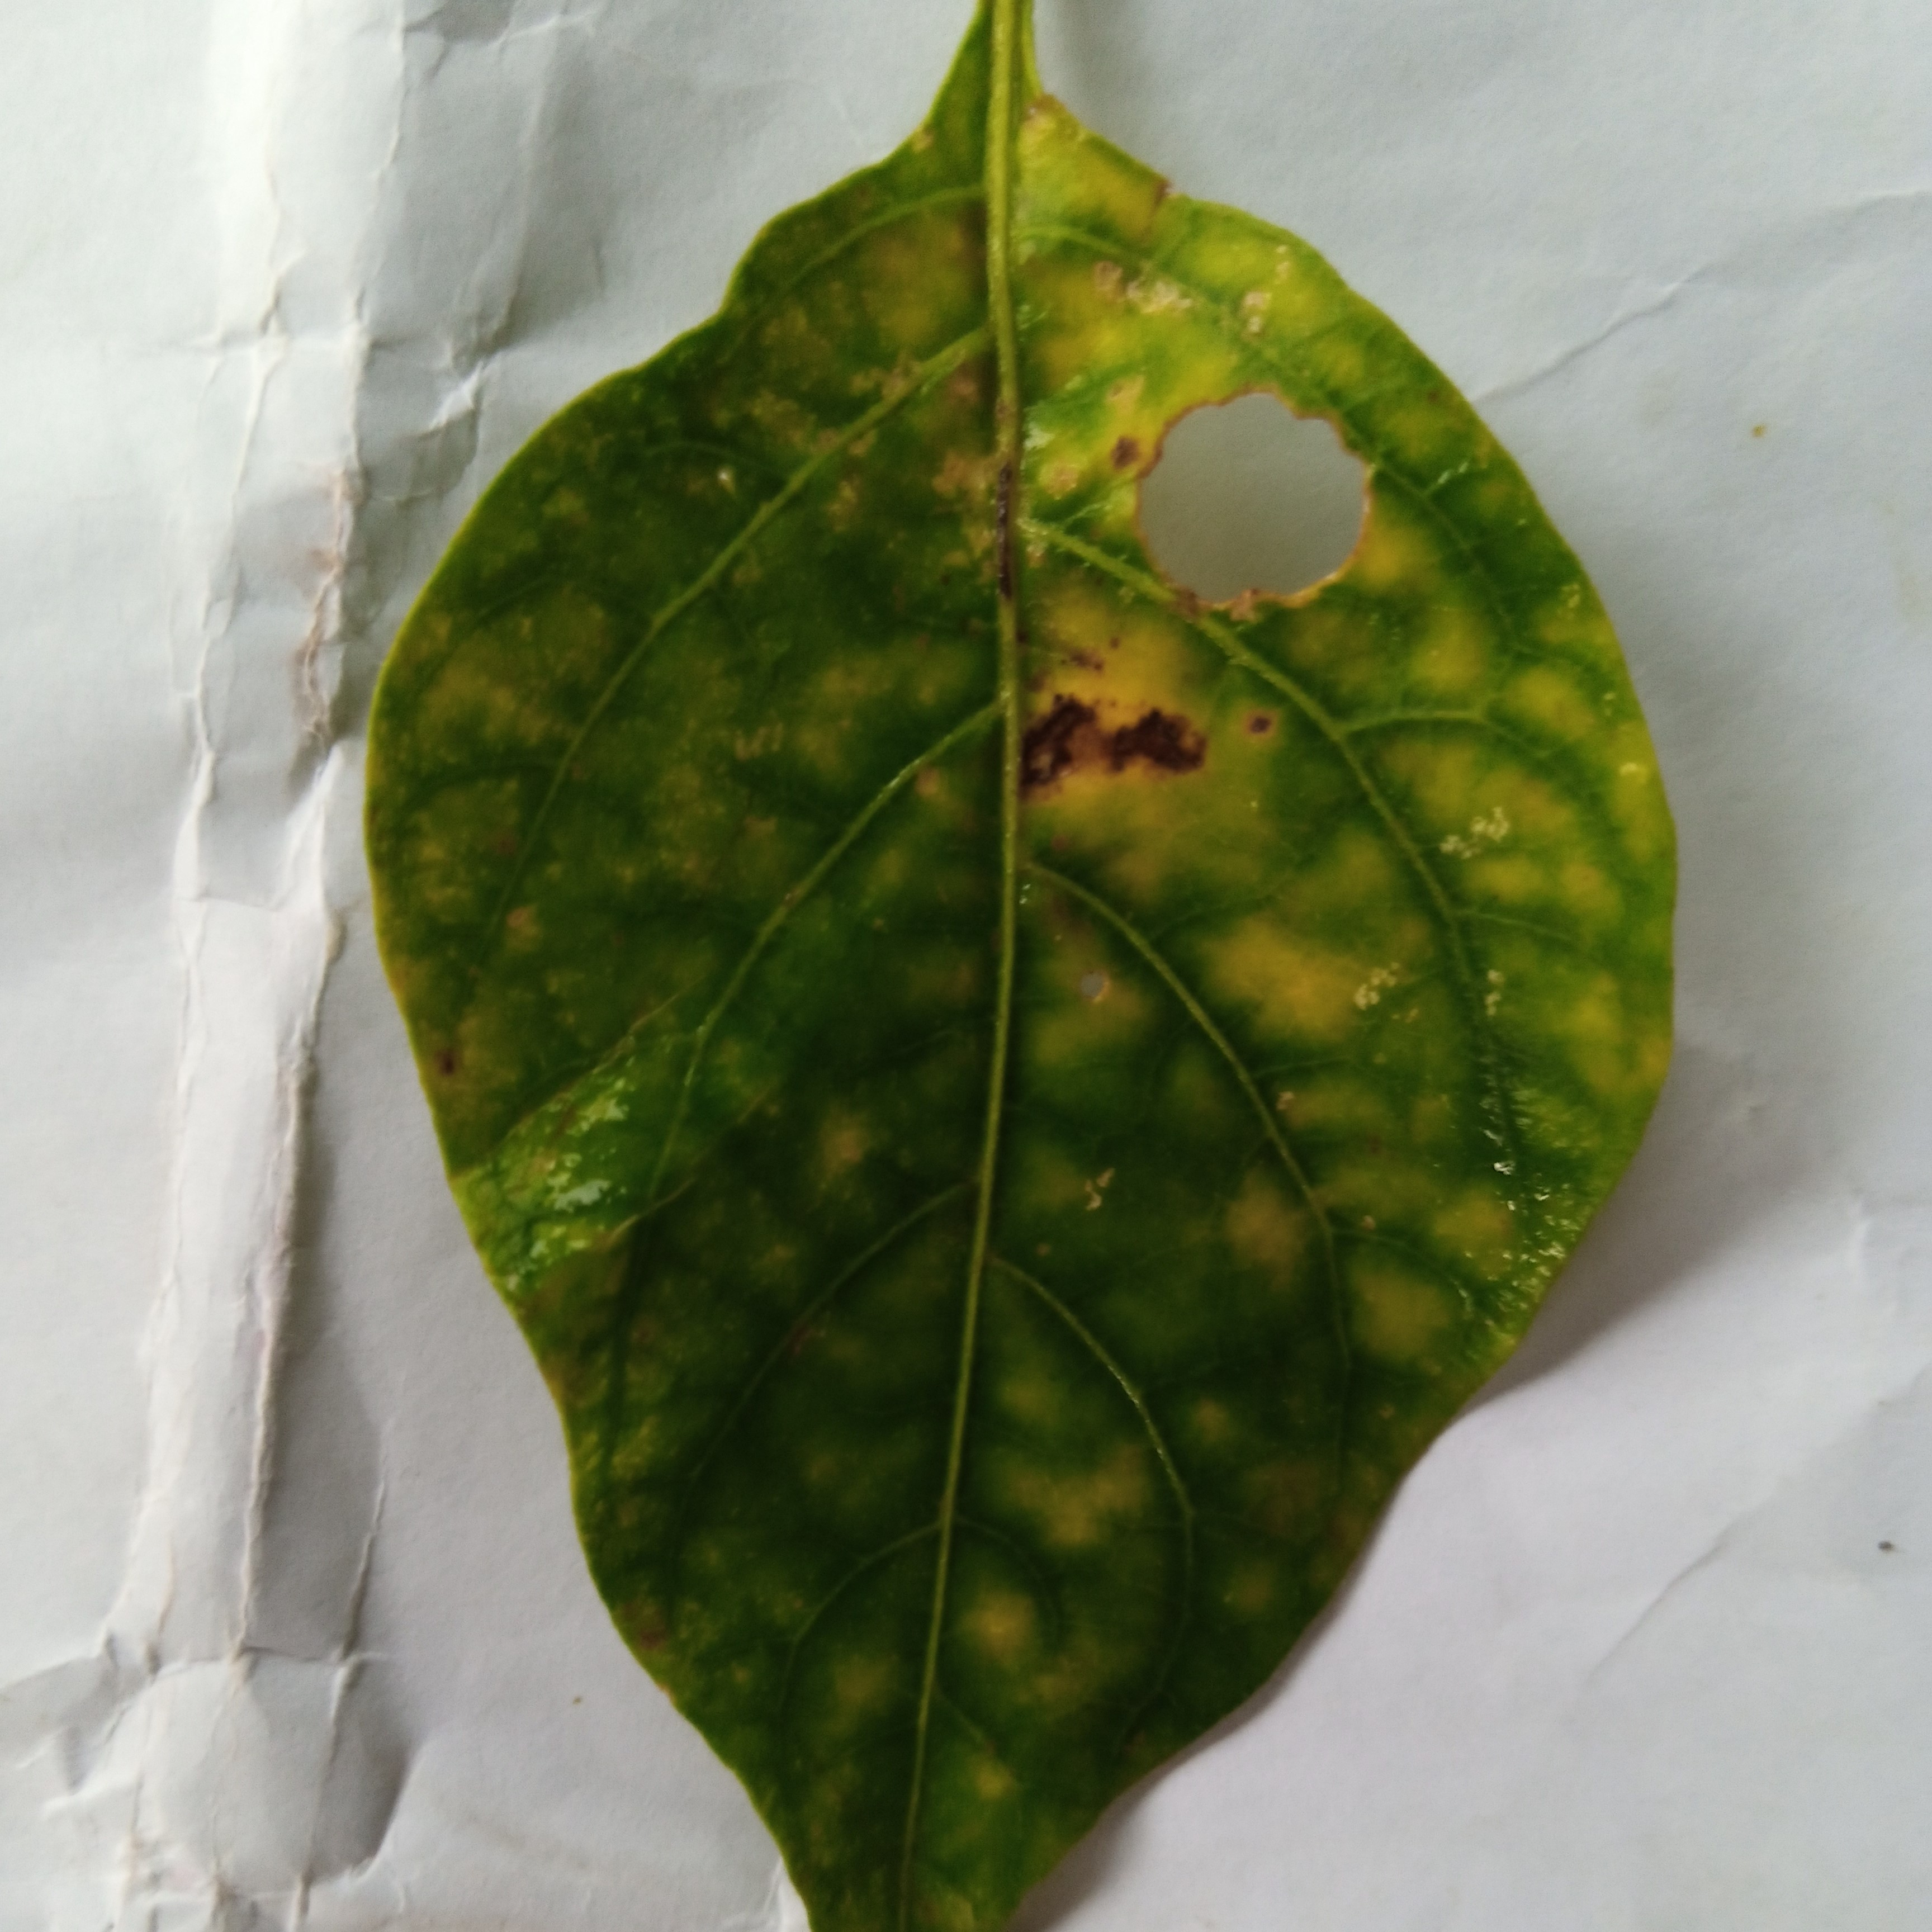Leaf: (310, 35, 1743, 1932)
